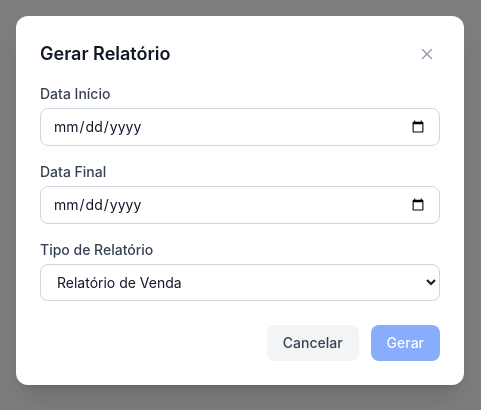
Test: RelatorioModal › should disable "Gerar" until both dates are filled
Expected: the button "Gerar" is disabled, top-left (371, 324), bottom-right (440, 360)
In the date field labelled "Data Início": (240, 126) top-left (40, 108), bottom-right (440, 146), type "2026-01-01"
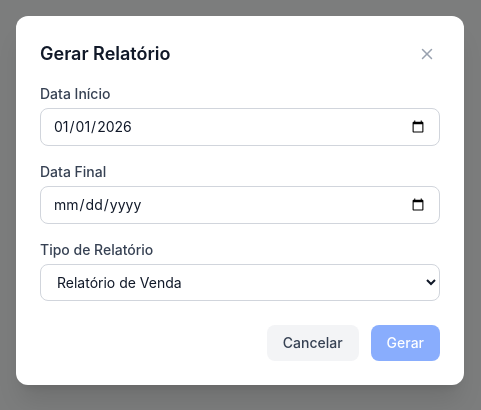
Expected: the button "Gerar" is disabled, top-left (371, 324), bottom-right (440, 360)
In the date field labelled "Data Final": (240, 204) top-left (40, 186), bottom-right (440, 224), type "2026-01-31"
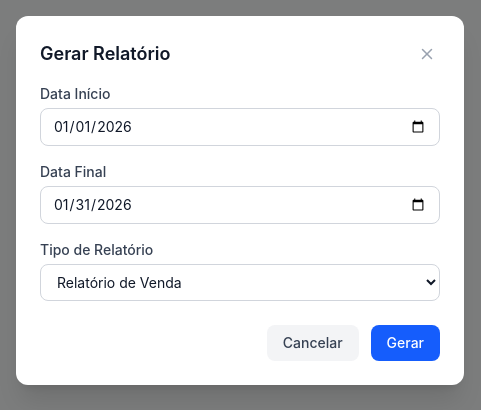
Now the button "Gerar" is enabled, box top-left (371, 324), bottom-right (440, 360)
